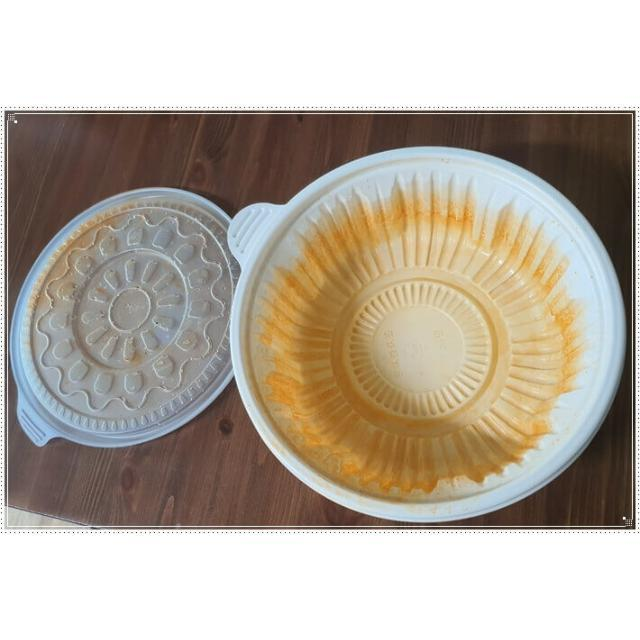Recipiente plastico: (226, 144, 625, 525)
